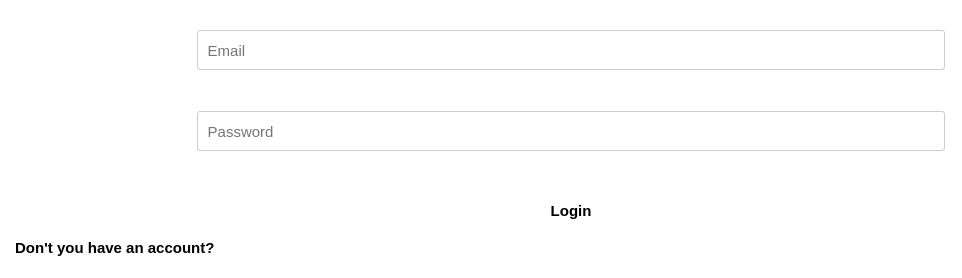
Test: Testing LOGIN component › Should display validation errors if inputs fields do not validate
Type "aaa" into the field labelled "Email". click: x=571, y=50
box: [197, 30, 945, 70]
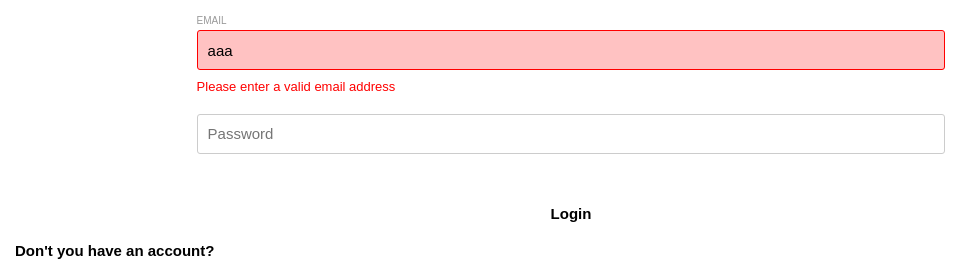
Type "aaa" into the password field labelled "Password". click: x=571, y=134
box: [197, 114, 945, 154]
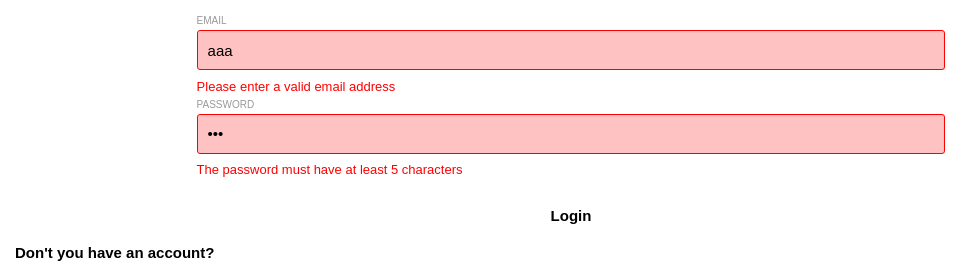
Result: the text "Please enter a valid email address" is shown at [197, 78, 395, 94]
Result: the text "The password must have at least 5 characters" is shown at [197, 162, 462, 177]
